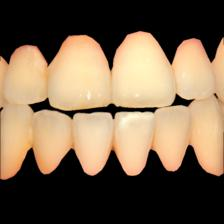cavity: (67, 135, 79, 150), (40, 160, 51, 171), (111, 141, 120, 152)
tooth: (48, 35, 111, 111), (112, 30, 172, 106), (174, 37, 218, 101), (36, 109, 74, 176), (74, 112, 113, 177), (1, 106, 35, 178), (192, 100, 224, 176), (155, 108, 193, 170), (8, 44, 47, 104), (115, 113, 152, 176)
